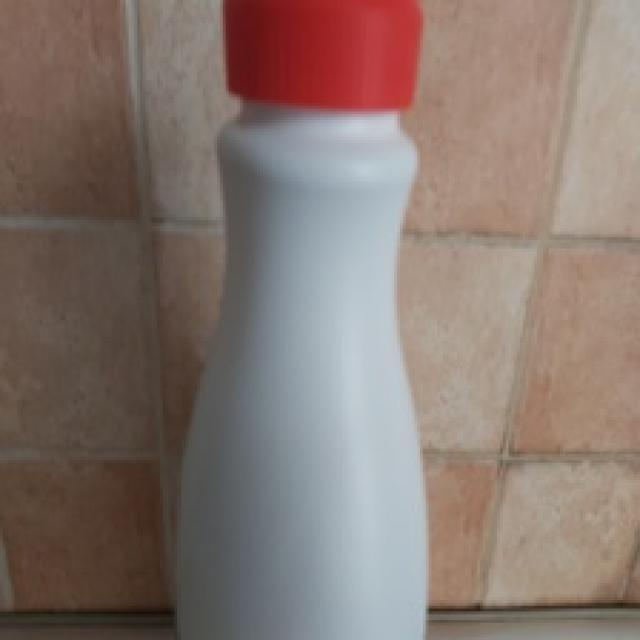Plastic: (176, 0, 430, 640)
